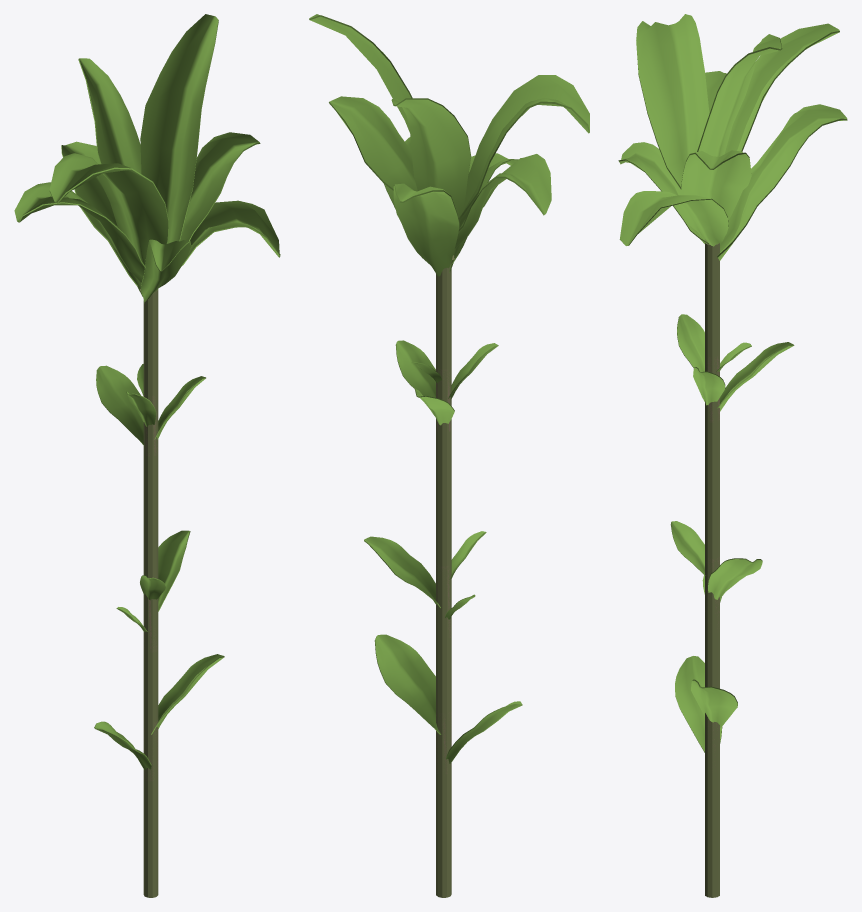
Rendered from sugarcane_st3.fbx.
3 renders of one model, left to right at view 1: azimuth 30°, elevation 25°; view 2: azimuth 150°, elevation 25°; view 3: azimuth 270°, elevation 25°, orthographic. The views are drawn at different scales.
Visible parts, largest first — view 1: sc4_sc3_sugarcane10; view 2: sc4_sc3_sugarcane10; view 3: sc4_sc3_sugarcane10.
Boxes of the visible parts, bbox=[...] form: sc4_sc3_sugarcane10: bbox=[14, 14, 280, 897]; sc4_sc3_sugarcane10: bbox=[309, 14, 589, 897]; sc4_sc3_sugarcane10: bbox=[618, 14, 847, 897].
Size of the model in its own units: 2.66 by 9.33 by 2.15.
